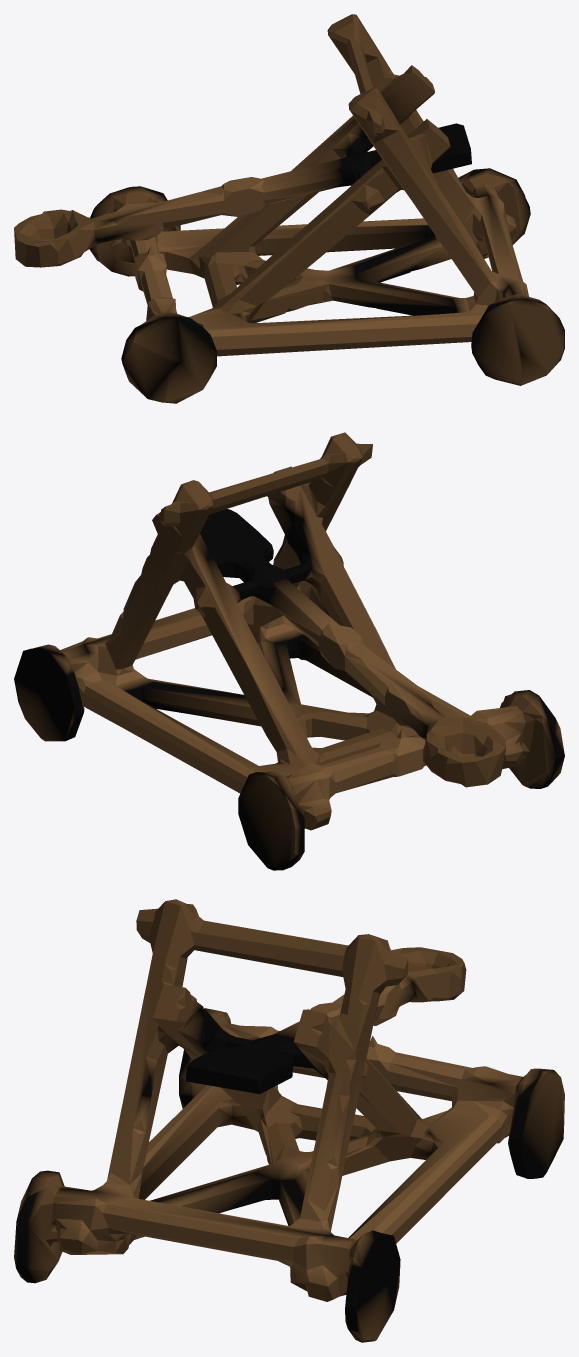
Rendered from Catapult.glb.
The picture shows the model from 3 angles, top to bottom: view 1: azimuth 30°, elevation 25°; view 2: azimuth 150°, elevation 25°; view 3: azimuth 270°, elevation 25°; orthographic projection. The views are drawn at different scales.
Visible parts, largest first — view 1: Root; view 2: Root; view 3: Root.
Part boxes in pixels (bbox=[...]): Root: bbox=[14, 14, 564, 403]; Root: bbox=[14, 432, 564, 870]; Root: bbox=[14, 899, 564, 1342].
Size of the model in its own units: 2.79 by 1.51 by 2.3.
